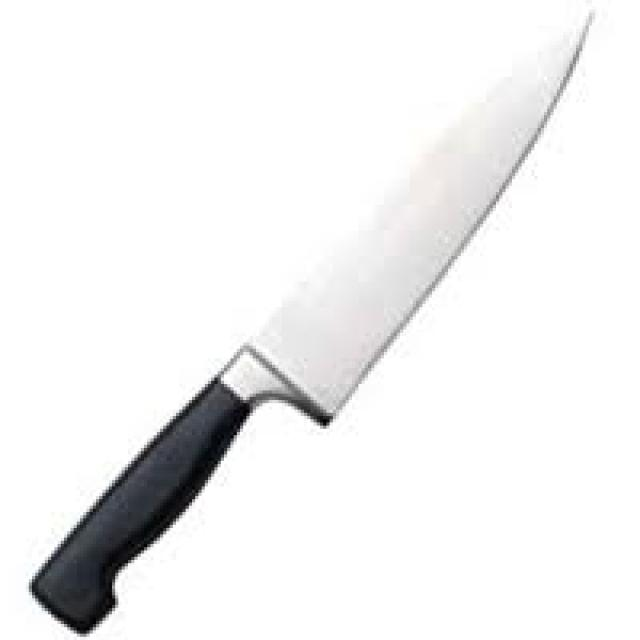Knife: (32, 6, 589, 630)
